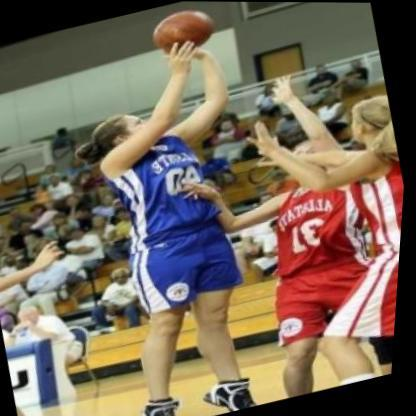basketball: (142, 1, 228, 62)
